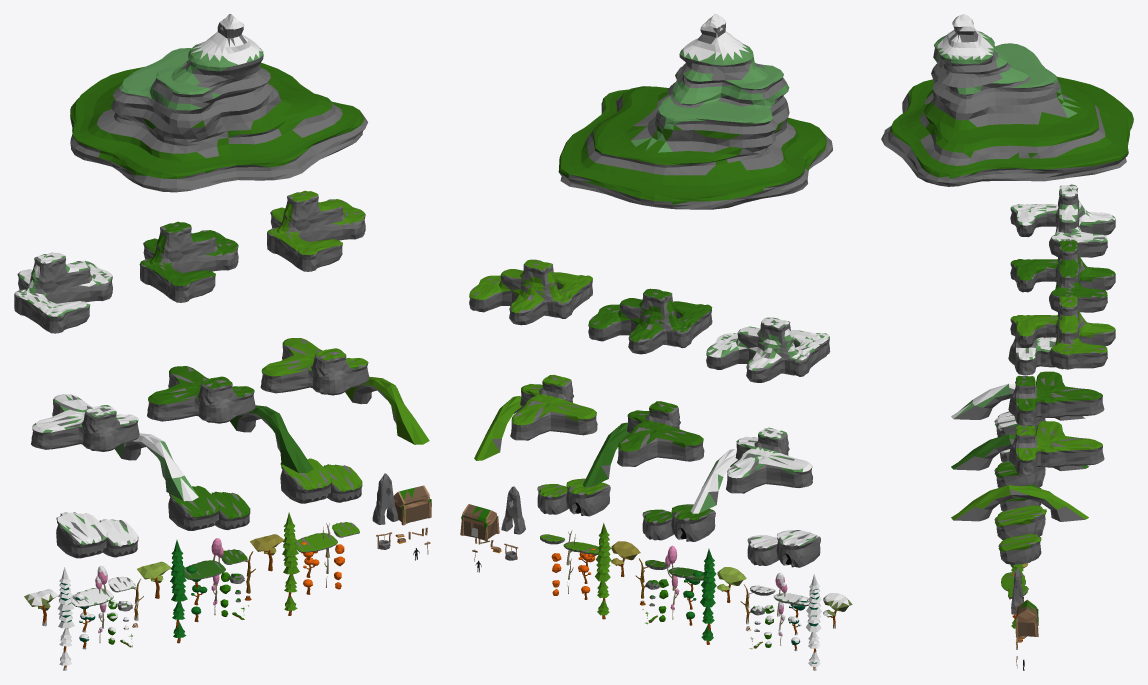
The model's file is Lowpoly Biome Pack v1.0.fbx.
3 views of the same model, side by side, from view 1: azimuth 30°, elevation 25°; view 2: azimuth 150°, elevation 25°; view 3: azimuth 270°, elevation 25° (orthographic). The views are drawn at different scales.
Parts seen in each view (by area): view 1: Mountain, Summer Cliff 3, Autumn Cliff 3, Winter Cliff 3, Winter Cliff 2, Autumn Cliff 2, Summer Cliff 2, Winter Cave, Autumn Arch, Winter Arch, Summer Arch, Autumn Cave (+7 smaller); view 2: Mountain, Summer Cliff 3, Autumn Cliff 3, Winter Cliff 3, Autumn Cliff 2, Winter Cliff 2, Summer Cliff 2, Winter Cave, Autumn Cave, Summer Cave, Autumn Arch, Winter Arch (+6 smaller); view 3: Mountain, Autumn Cliff 3, Summer Cliff 3, Winter Cliff 3, Autumn Cliff 2, Summer Cliff 2, Autumn Arch, Autumn Cave, Summer Arch, Winter Cliff 2, Winter Arch, Autumn Cliff 1 (+4 smaller).
Boxes of the visible parts, x1=… form: Mountain: x1=70, y1=14, x2=367, y2=192; Summer Cliff 3: x1=139, y1=221, x2=238, y2=302; Autumn Cliff 3: x1=267, y1=190, x2=365, y2=271; Winter Cliff 3: x1=14, y1=252, x2=112, y2=333; Winter Cliff 2: x1=31, y1=394, x2=139, y2=451; Autumn Cliff 2: x1=260, y1=338, x2=369, y2=395; Summer Cliff 2: x1=147, y1=366, x2=255, y2=423; Winter Cave: x1=56, y1=512, x2=107, y2=558; Autumn Arch: x1=345, y1=376, x2=429, y2=444; Winter Arch: x1=115, y1=433, x2=198, y2=501; Summer Arch: x1=230, y1=405, x2=313, y2=472; Autumn Cave: x1=280, y1=458, x2=331, y2=503; Mountain: x1=558, y1=14, x2=832, y2=209; Summer Cliff 3: x1=588, y1=288, x2=712, y2=354; Autumn Cliff 3: x1=469, y1=259, x2=592, y2=325; Winter Cliff 3: x1=706, y1=317, x2=830, y2=382; Autumn Cliff 2: x1=510, y1=374, x2=597, y2=440; Winter Cliff 2: x1=726, y1=427, x2=812, y2=493; Summer Cliff 2: x1=617, y1=401, x2=704, y2=466; Winter Cave: x1=776, y1=530, x2=820, y2=567; Autumn Cave: x1=566, y1=478, x2=610, y2=516; Summer Cave: x1=671, y1=504, x2=715, y2=541; Autumn Arch: x1=474, y1=396, x2=522, y2=460; Winter Arch: x1=690, y1=449, x2=738, y2=513; Mountain: x1=881, y1=14, x2=1133, y2=186; Autumn Cliff 3: x1=1010, y1=295, x2=1115, y2=369; Summer Cliff 3: x1=1010, y1=239, x2=1115, y2=312; Winter Cliff 3: x1=1010, y1=184, x2=1115, y2=257; Autumn Cliff 2: x1=1008, y1=421, x2=1104, y2=475; Summer Cliff 2: x1=1008, y1=371, x2=1104, y2=425; Autumn Arch: x1=951, y1=485, x2=1088, y2=521; Autumn Cave: x1=994, y1=505, x2=1046, y2=540; Summer Arch: x1=951, y1=434, x2=1088, y2=471; Winter Cliff 2: x1=1008, y1=337, x2=1056, y2=375; Winter Arch: x1=951, y1=383, x2=1088, y2=420; Autumn Cliff 1: x1=998, y1=534, x2=1041, y2=564.
Size of the model in its own units: 9213 by 14060 by 5561.
